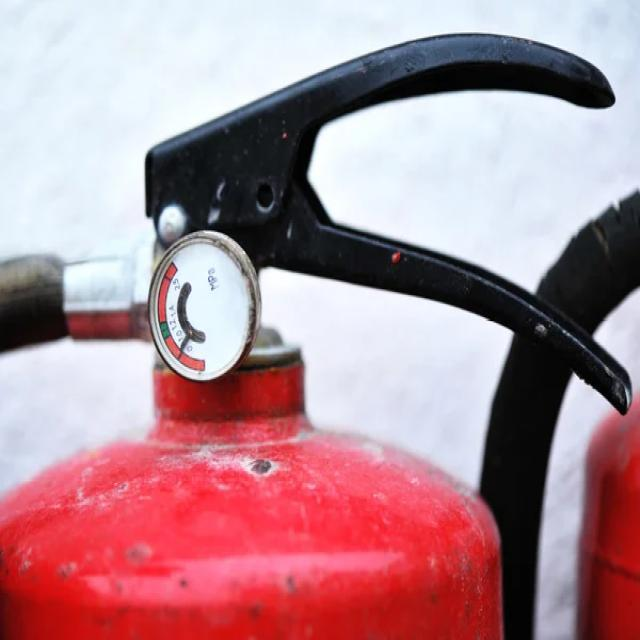pressure gauge: (149, 231, 260, 381)
